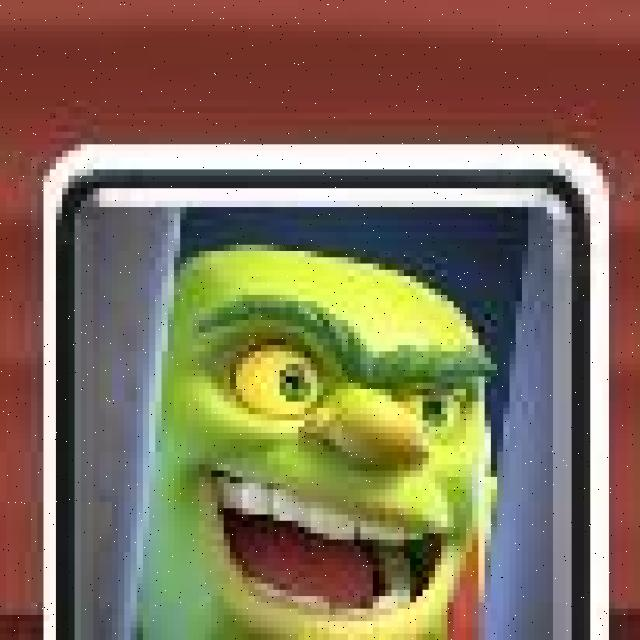Goblin_Cage: (40, 143, 611, 640)
